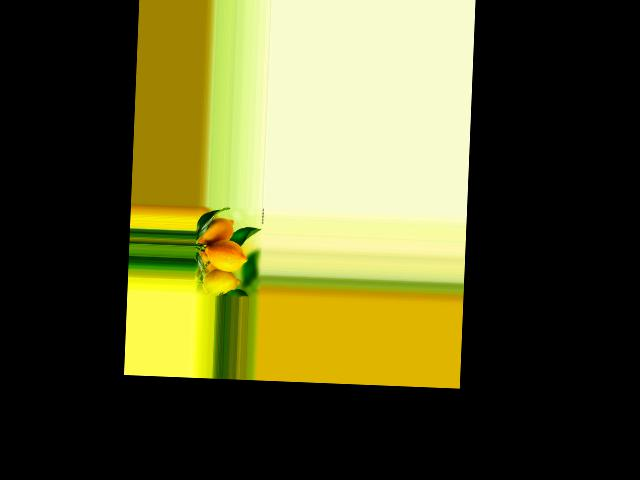lemon: (200, 269, 243, 294)
